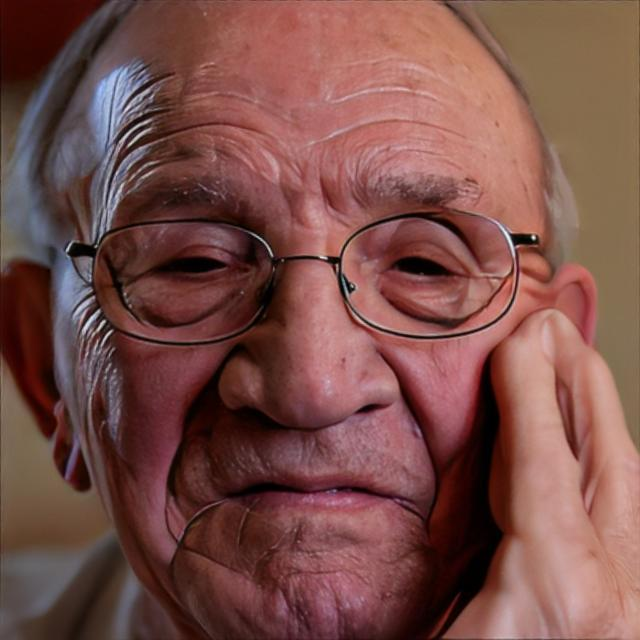content: (51, 0, 546, 640)
